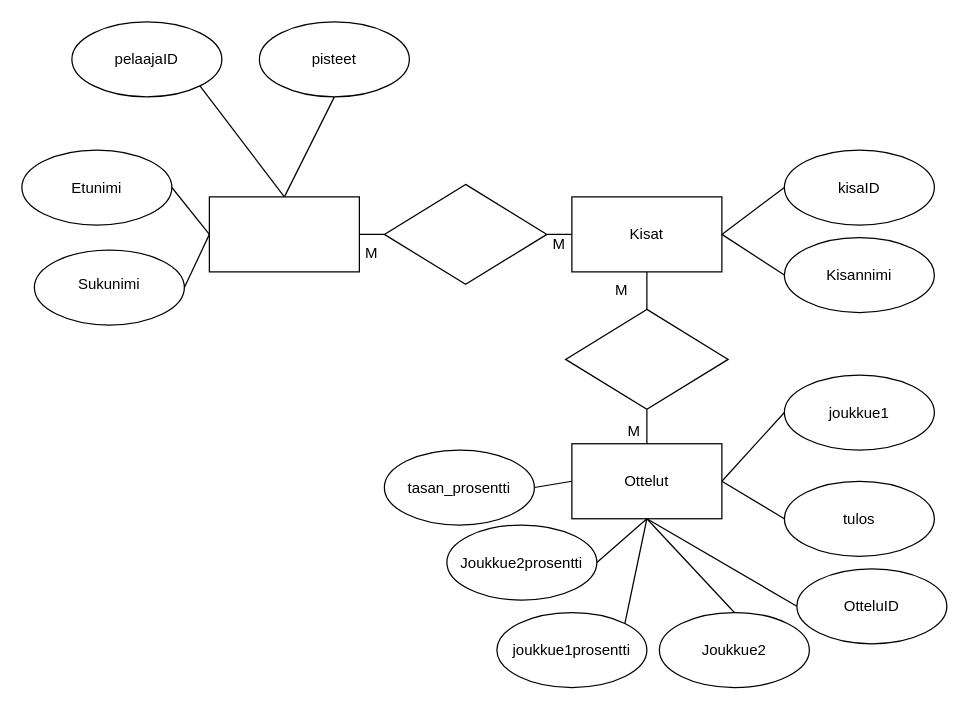
The diagram is 969 pixels wide and 710 high, and some of its shapes have lost their labels. Here are the shapes that lost their labels. From the top down, the centre of each, then its label:
the point at 283,234: Pelaajat
the point at 465,233: Veikkaus
the point at 646,358: Kuluu
